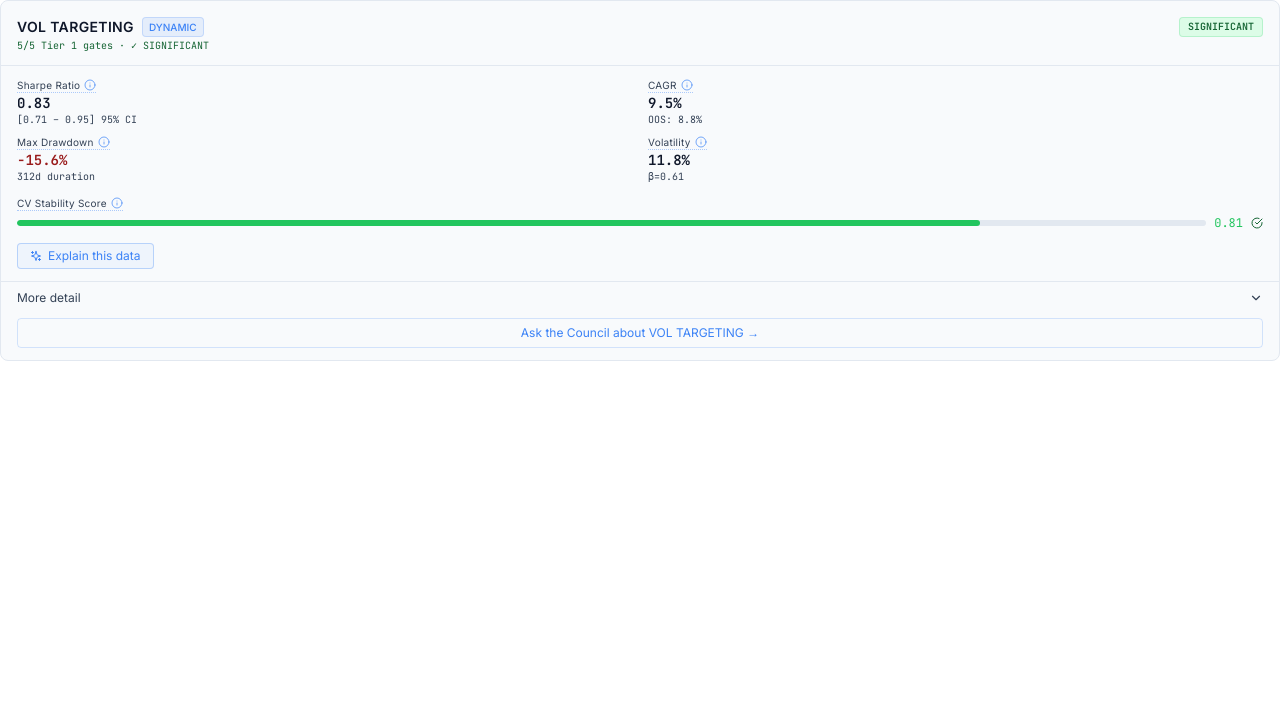
Scenario: StrategyCard — ExplainableText metric labels › Tier 1 Significance Tests label is wrapped when expanded
The image size is (1280, 719).
Click the button "More detail": (49, 298) [1, 281, 1279, 314]
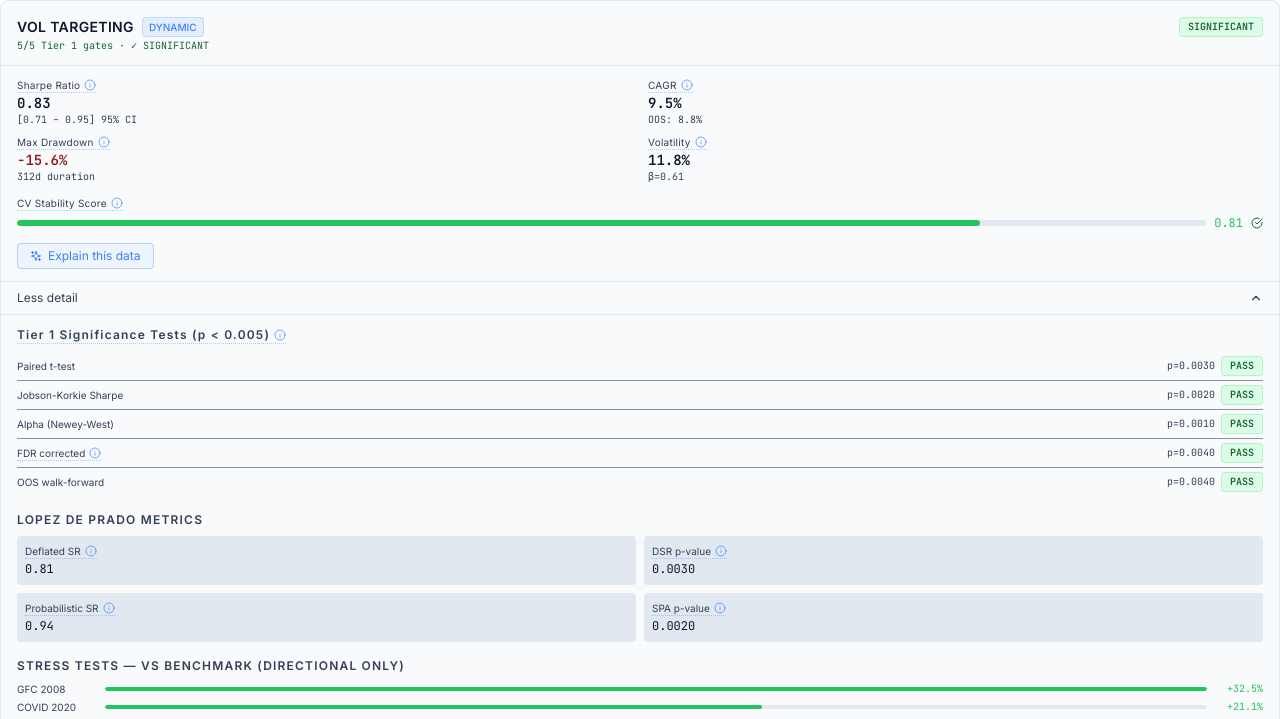
Result: the button with aria-label "Explain tier1_gates" is shown at [17, 327, 286, 344]
